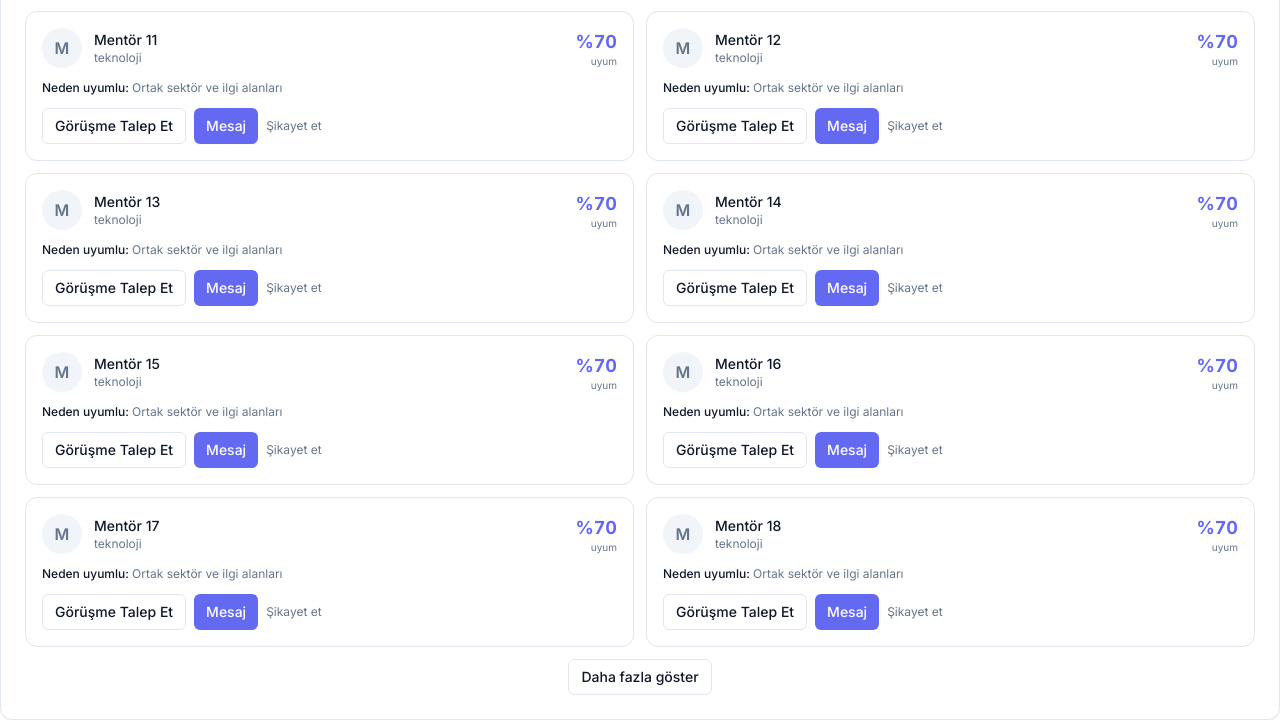
Scenario: AJ-90 · menti mentör havuzu sayfalama › ikinci sayfa hatasında mevcut kartlar kalır, Türkçe hata görünür, düğme tekrar denenebilir
(page scrolled)
Click the button "Daha fazla göster" at (640, 677), box [568, 659, 712, 695]
(page scrolled)
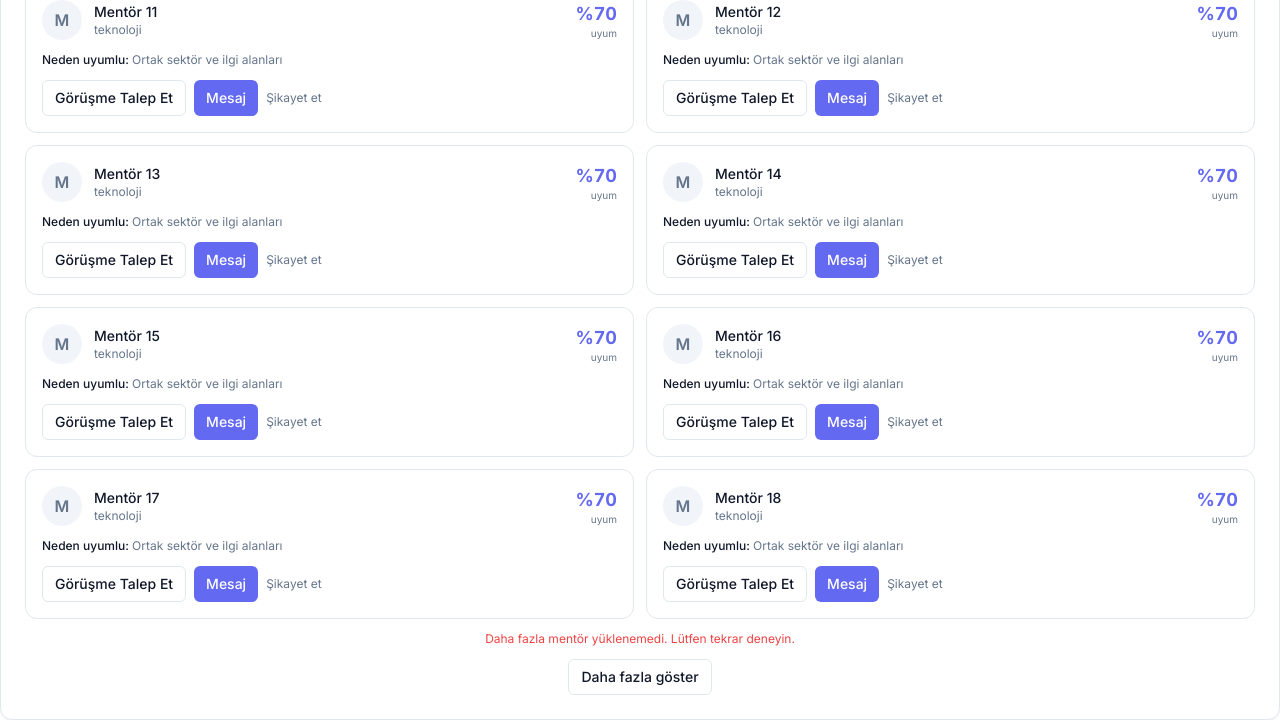
Result: the text "Daha fazla mentör yüklenemedi. Lütfen tekrar deneyin." is shown at [485, 631, 795, 646]
